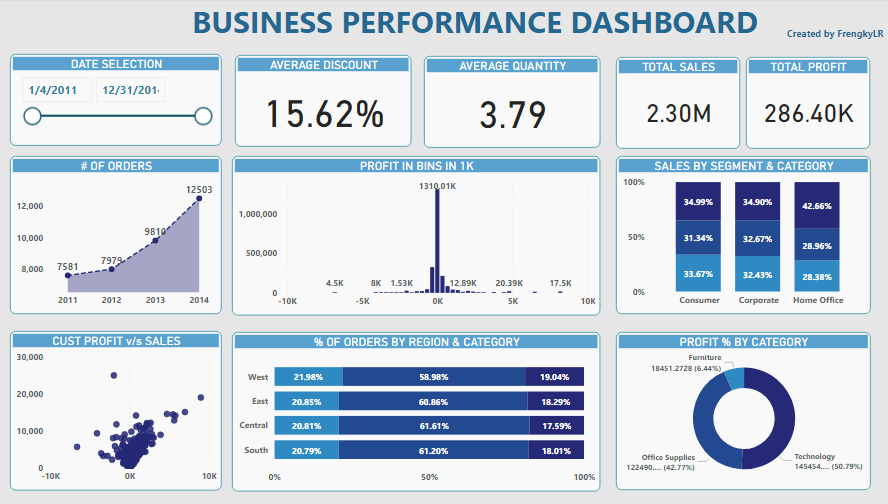

Layout of this report page (visuals, bound fields, positions):
{"tool":"powerbi","page":{"name":"Sales Dashboard","canvas":[1280,720],"ordinal":0},"visuals":[{"type":"actionButton","box":[258,0,833.4,59.5],"z":0},{"type":"stackedAreaChart","title":"# OF ORDERS","fields":{"Category":["New Orders.Order Date.Variation.Date Hierarchy.Year"],"Y":["Sum(New Orders.Quantity)"]},"box":[15.5,224.5,299.7,224.5],"z":1000},{"type":"hundredPercentStackedColumnChart","title":"SALES BY SEGMENT & CATEGORY","fields":{"Category":["New Orders.Segment"],"Y":["Sum(New Orders.Sales)"],"Series":["New Orders.Category"]},"box":[874,224.5,360.6,224.5],"z":2000},{"type":"columnChart","title":"PROFIT IN BINS IN 1K","fields":{"Y":["Sum(New Orders.Sales)"],"Category":["New Orders.Profit (bins)"]},"box":[330.7,224.5,521.8,225.7],"z":3000},{"type":"donutChart","title":"PROFIT % BY CATEGORY","fields":{"Category":["New Orders.Category"],"Y":["Sum(New Orders.Profit)"]},"box":[874,472.8,360.6,224.5],"z":4000},{"type":"scatterChart","title":"CUST PROFIT v/s SALES","fields":{"X":["Sum(New Orders.Profit)"],"Y":["Sum(New Orders.Sales)"],"Category":["New Orders.Customer Name"]},"box":[15.5,471.6,299.7,225.7],"z":5000},{"type":"hundredPercentStackedBarChart","title":"% OF ORDERS BY REGION & CATEGORY","fields":{"Series":["New Orders.Category"],"Category":["New Orders.Region"],"Y":["Sum(New Orders.Quantity)"]},"box":[330.7,472.8,521.8,225.7],"z":6000},{"type":"slicer","title":"DATE SELECTION","fields":{"Values":["New Orders.Order Date"]},"box":[15.5,78.8,299.7,130.1],"z":7000},{"type":"card","title":"AVERAGE DISCOUNT","fields":{"Values":["Avg(New Orders.Discount)"]},"box":[333.9,81.4,250,130.1],"z":8000},{"type":"card","title":"AVERAGE QUANTITY","fields":{"Values":["Avg(New Orders.Quantity)"]},"box":[603,82.4,249.6,130.1],"z":9000},{"type":"card","title":"TOTAL SALES","fields":{"Values":["Sum(New Orders.Sales)"]},"box":[874,83.6,175.5,130.1],"z":10000},{"type":"card","title":"TOTAL PROFIT","fields":{"Values":["Sum(New Orders.Profit)"]},"box":[1059.1,83.6,175.5,130.1],"z":11000},{"type":"actionButton","box":[1091.3,19.8,188.5,59.5],"z":12000}]}

Visuals, with their boxes in screenshot pixels (x1, y1, x2, y2), scaled from the page's 1280x720 canvas onto the 888x504 screenshot:
actionButton: l=179, t=0, r=757, b=42
"# OF ORDERS" stackedAreaChart: l=11, t=157, r=219, b=314
"SALES BY SEGMENT & CATEGORY" hundredPercentStackedColumnChart: l=606, t=157, r=857, b=314
"PROFIT IN BINS IN 1K" columnChart: l=229, t=157, r=591, b=315
"PROFIT % BY CATEGORY" donutChart: l=606, t=331, r=857, b=488
"CUST PROFIT v/s SALES" scatterChart: l=11, t=330, r=219, b=488
"% OF ORDERS BY REGION & CATEGORY" hundredPercentStackedBarChart: l=229, t=331, r=591, b=489
"DATE SELECTION" slicer: l=11, t=55, r=219, b=146
"AVERAGE DISCOUNT" card: l=232, t=57, r=405, b=148
"AVERAGE QUANTITY" card: l=418, t=58, r=591, b=149
"TOTAL SALES" card: l=606, t=59, r=728, b=150
"TOTAL PROFIT" card: l=735, t=59, r=857, b=150
actionButton: l=757, t=14, r=887, b=56
